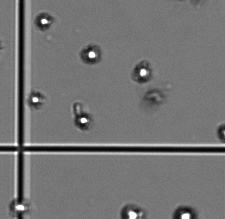Dead Cell: (143, 89, 164, 108)
Living Cell: (132, 60, 153, 83), (80, 44, 101, 63), (34, 12, 56, 29), (8, 199, 30, 214), (27, 90, 44, 108), (75, 113, 94, 129)
